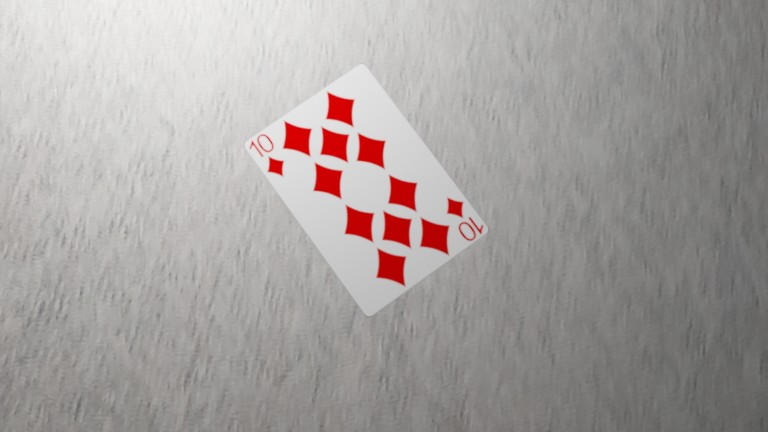10_of_diamonds: (174, 76, 195, 98), (98, 52, 118, 74)
